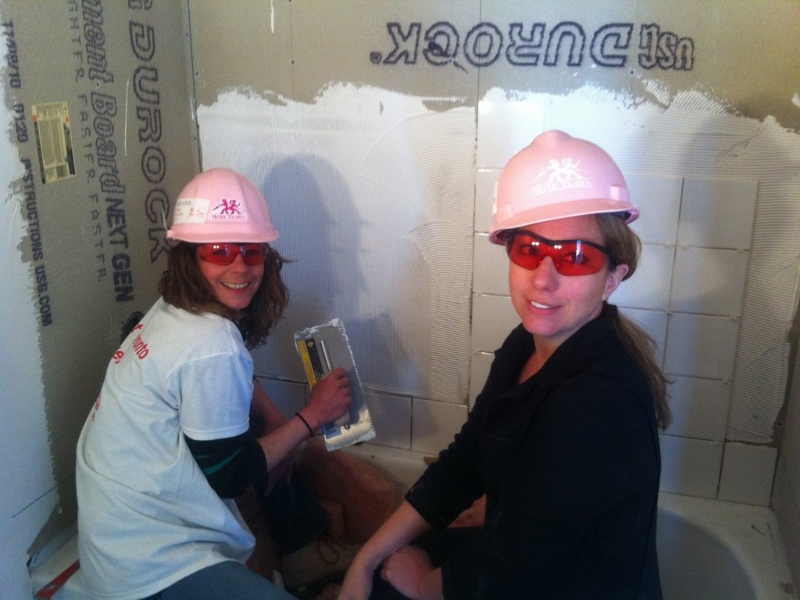Baret: (488, 128, 639, 225), (167, 167, 279, 244)
